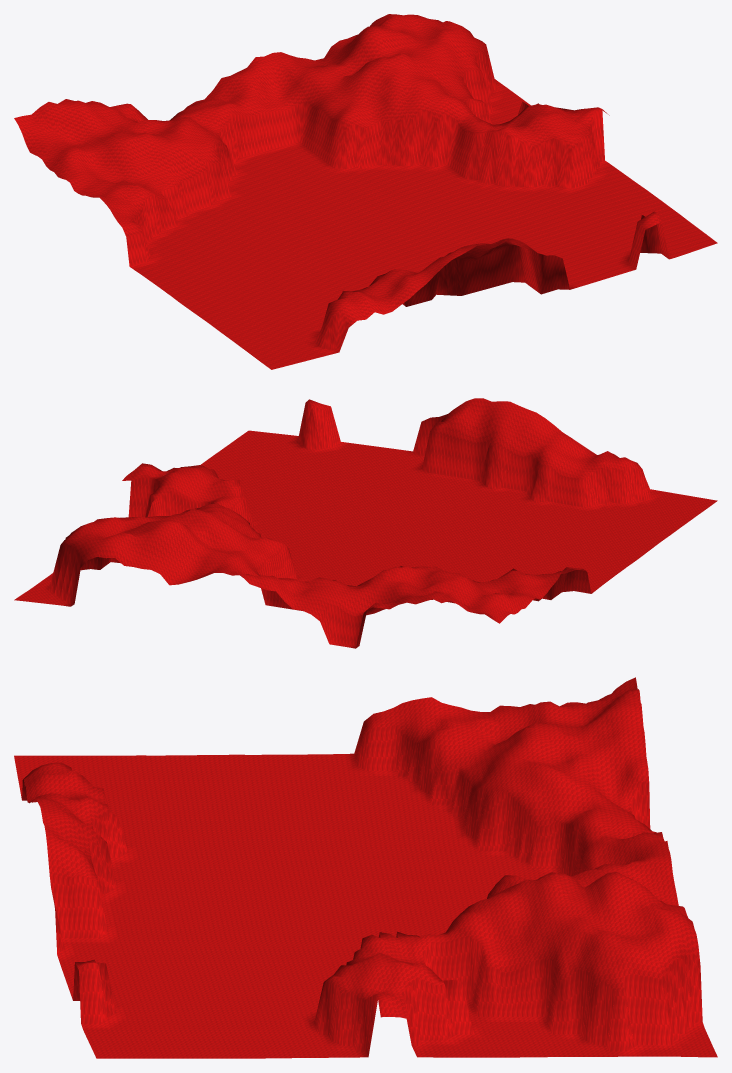
The model's file is map4.FBX.
3 renders of one model, top to bottom at view 1: azimuth 30°, elevation 25°; view 2: azimuth 150°, elevation 25°; view 3: azimuth 270°, elevation 25°, orthographic. The views are drawn at different scales.
Visible parts, largest first — view 1: Plane001; view 2: Plane001; view 3: Plane001.
Part boxes in pixels (x1,y1,x2,y2): Plane001: [14, 14, 717, 369]; Plane001: [14, 398, 717, 648]; Plane001: [14, 677, 717, 1058].
Size of the model in its own units: 141 by 24.26 by 144.
